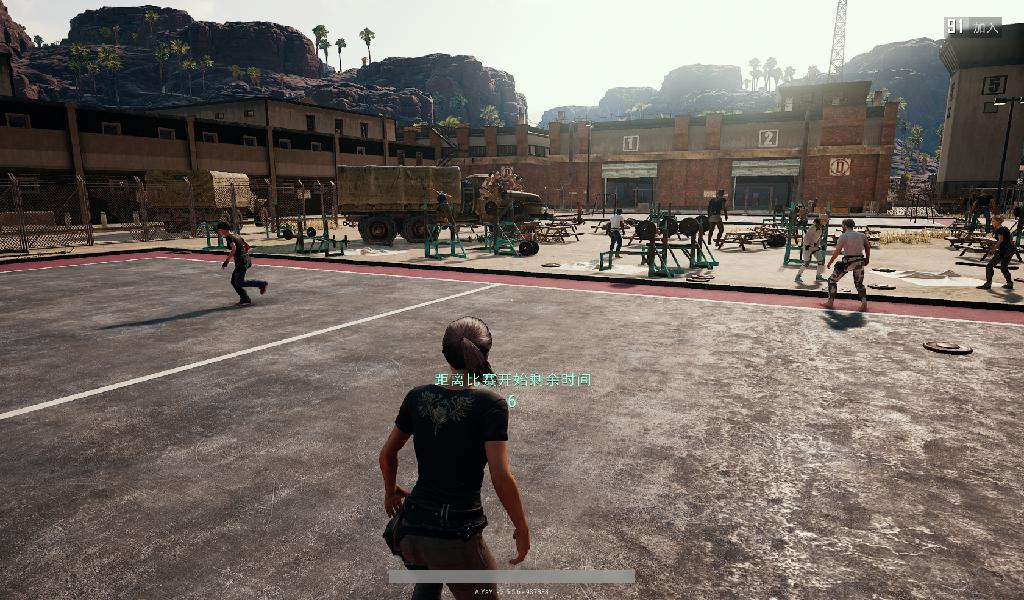Target Person: (380, 315, 531, 600), (214, 218, 271, 315), (828, 218, 867, 313), (980, 214, 1015, 293), (794, 213, 829, 282), (419, 183, 461, 233), (968, 186, 996, 237), (707, 188, 729, 246), (605, 205, 626, 261), (572, 195, 583, 223)
